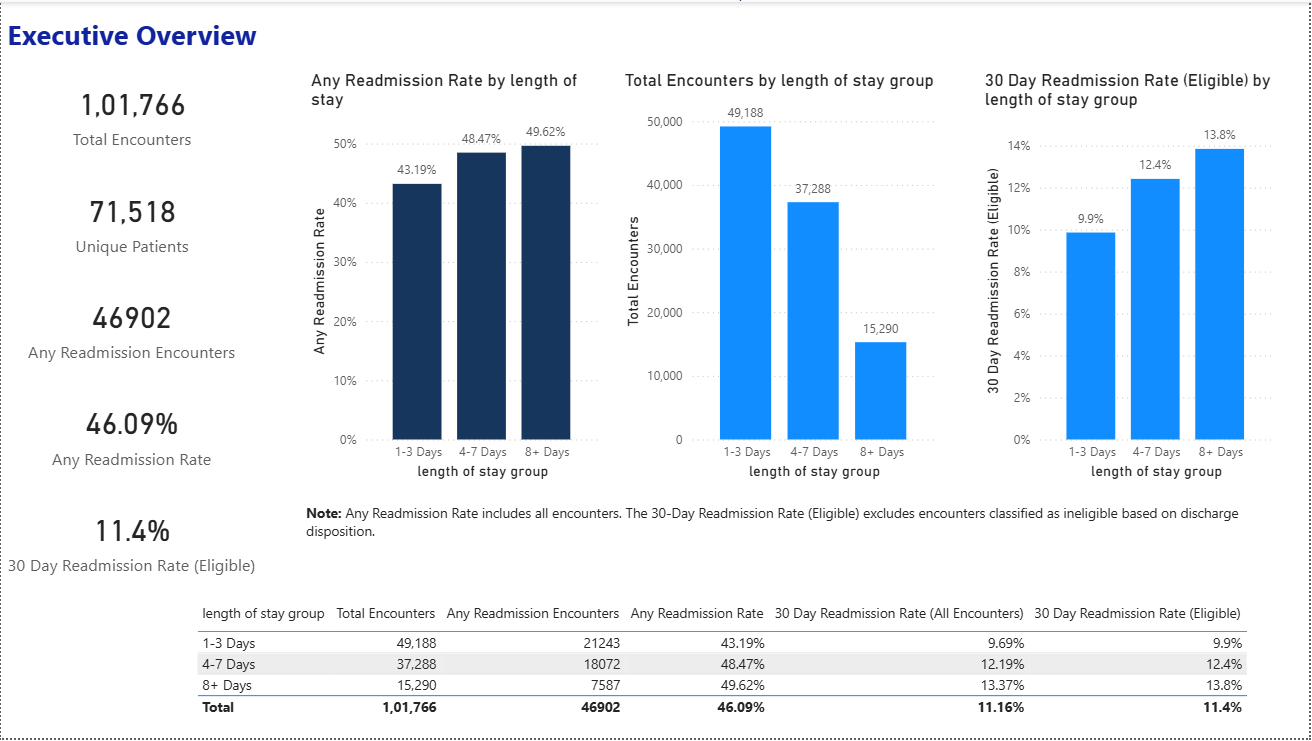

The page's visual inventory and layout, read from the dashboard file:
{"tool":"powerbi","page":{"name":"Executive Overview","canvas":[1280,720],"ordinal":1},"visuals":[{"type":"card","fields":{"Values":["diabetic_data.Total Encounters"]},"box":[10.8,0,220,110],"z":0},{"type":"card","fields":{"Values":["diabetic_data.Unique Patients"]},"box":[10.8,585.1,220.3,109.5],"z":1000},{"type":"card","fields":{"Values":["diabetic_data.Readmitted Encounters"]},"box":[10.8,146,220.3,110.8],"z":2000},{"type":"card","fields":{"Values":["diabetic_data.Not Readmitted Encounters"]},"box":[10.8,292.8,220.3,109.5],"z":3000},{"type":"card","fields":{"Values":["diabetic_data.Readmission Rate"]},"box":[10.8,438.3,220.3,110.8],"z":4000},{"type":"clusteredColumnChart","fields":{"Category":["diabetic_data.length of stay group"],"Y":["diabetic_data.Total Encounters"]},"box":[733.8,28.4,375.7,520.3],"z":5000},{"type":"tableEx","fields":{"Values":["diabetic_data.length of stay group","diabetic_data.Total Encounters","diabetic_data.Readmitted Encounters","diabetic_data.Readmission Rate by LOS","diabetic_data.30 Day Readmission Rate"]},"box":[305.7,556.4,788.7,163.9],"z":6000},{"type":"clusteredColumnChart","title":"Readmission Rate by length of stay","fields":{"Category":["diabetic_data.length of stay group"],"Y":["diabetic_data.Readmission Rate by LOS"]},"box":[305.7,24.5,375.4,530.7],"z":7000}]}

Visuals, with their boxes in screenshot pixels (x1, y1, x2, y2), scaled from the page's 1280x720 canvas onto the 1312x741 screenshot:
card - diabetic_data.Total Encounters: 11, 0, 237, 113
card - diabetic_data.Unique Patients: 11, 602, 237, 715
card - diabetic_data.Readmitted Encounters: 11, 150, 237, 264
card - diabetic_data.Not Readmitted Encounters: 11, 301, 237, 414
card - diabetic_data.Readmission Rate: 11, 451, 237, 565
clusteredColumnChart - diabetic_data.length of stay group x diabetic_data.Total Encounters: 752, 29, 1137, 565
tableEx - diabetic_data.length of stay group x diabetic_data.Total Encounters: 313, 573, 1122, 740
"Readmission Rate by length of stay" clusteredColumnChart: 313, 25, 698, 571
